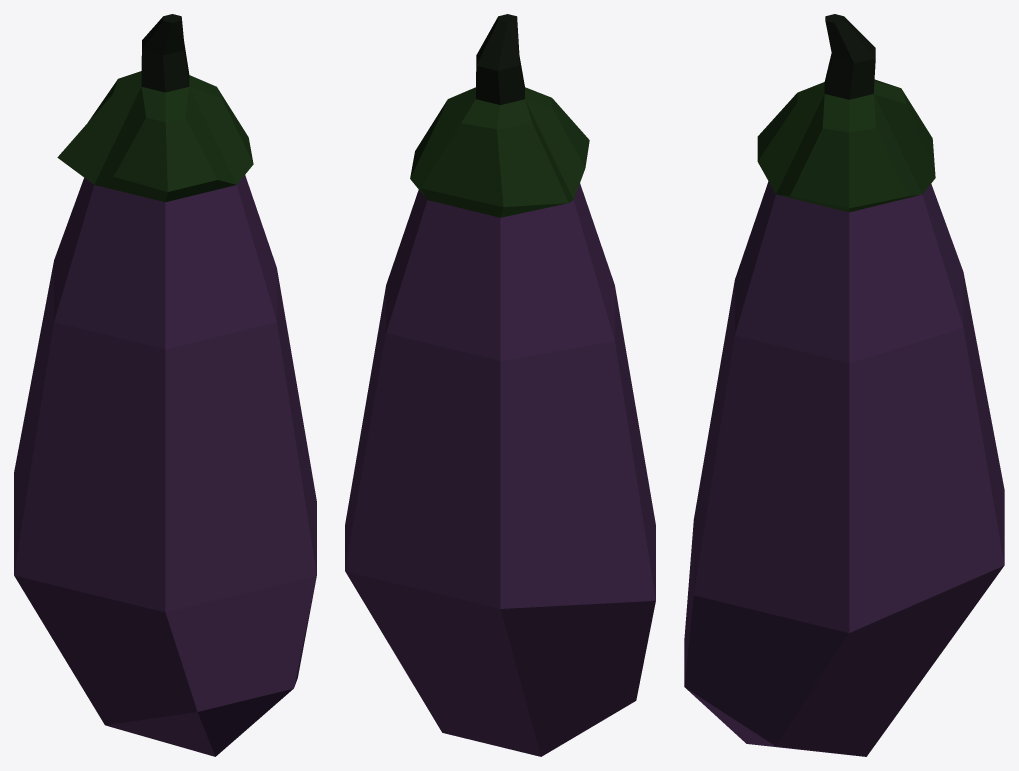
3 renders of one model, left to right at view 1: azimuth 30°, elevation 25°; view 2: azimuth 150°, elevation 25°; view 3: azimuth 270°, elevation 25°, orthographic. The views are drawn at different scales.
Parts seen in each view (by area): view 1: 茄子_pCylinder1; view 2: 茄子_pCylinder1; view 3: 茄子_pCylinder1.
Part boxes in pixels (x1,y1,x2,y2): 茄子_pCylinder1: [14, 14, 316, 756]; 茄子_pCylinder1: [345, 14, 655, 756]; 茄子_pCylinder1: [684, 14, 1004, 756].
Size of the model in its own units: 2.8 by 2.5 by 6.25.
